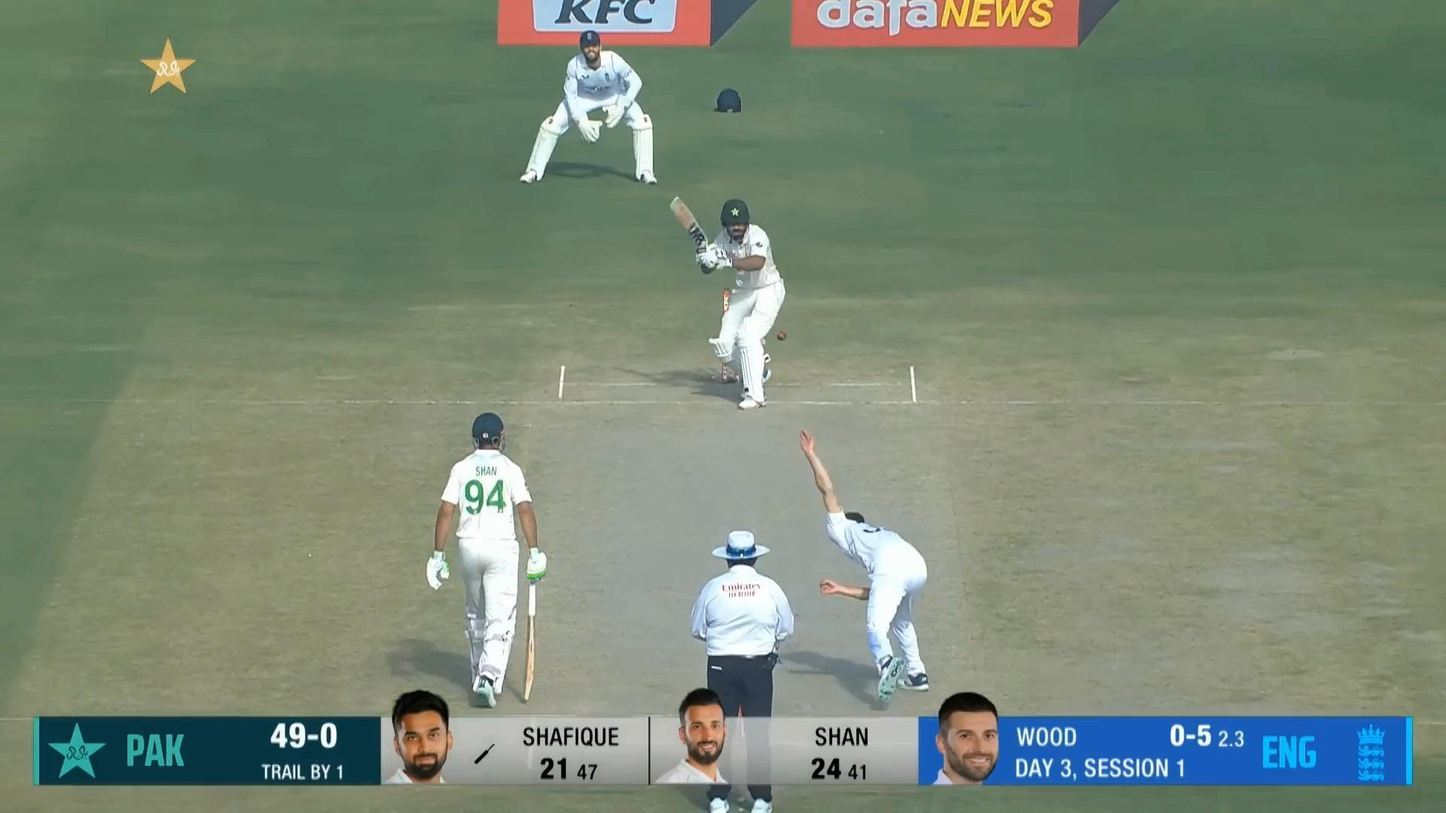BM 1: (668, 194, 786, 411)
BO: (798, 424, 931, 702)
